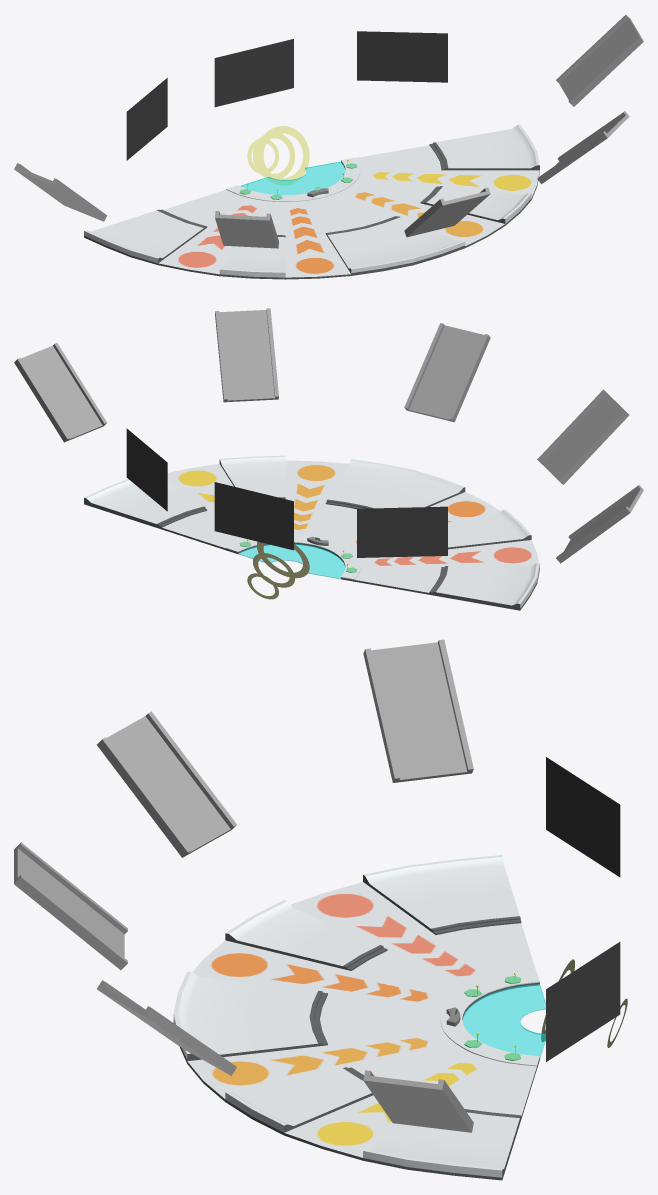
Rendered from world.fbx.
3 views of the same model, one above another, from view 1: azimuth 30°, elevation 25°; view 2: azimuth 150°, elevation 25°; view 3: azimuth 270°, elevation 25° (orthographic). The views are drawn at different scales.
Parts seen in each view (by area): view 1: polySurface4, display, slope, polySurface1, Circle03, Circle01; view 2: polySurface4, slope, display, polySurface1, Circle03, Circle01; view 3: polySurface4, slope, display, polySurface1.
Boxes of the visible parts, bbox=[...] form: polySurface4: bbox=[84, 124, 539, 279]; display: bbox=[126, 31, 447, 160]; slope: bbox=[14, 15, 643, 248]; polySurface1: bbox=[240, 161, 345, 194]; Circle03: bbox=[257, 126, 309, 185]; Circle01: bbox=[253, 134, 294, 177]; polySurface4: bbox=[84, 455, 539, 610]; slope: bbox=[14, 308, 643, 563]; display: bbox=[126, 428, 447, 557]; polySurface1: bbox=[238, 543, 345, 579]; Circle03: bbox=[257, 542, 309, 578]; Circle01: bbox=[253, 553, 294, 587]; polySurface4: bbox=[173, 855, 539, 1180]; slope: bbox=[14, 639, 473, 1132]; display: bbox=[546, 757, 620, 1061]; polySurface1: bbox=[462, 984, 545, 1058].
Bounding box in the file's own units: 34834 × 6766 × 20785.
